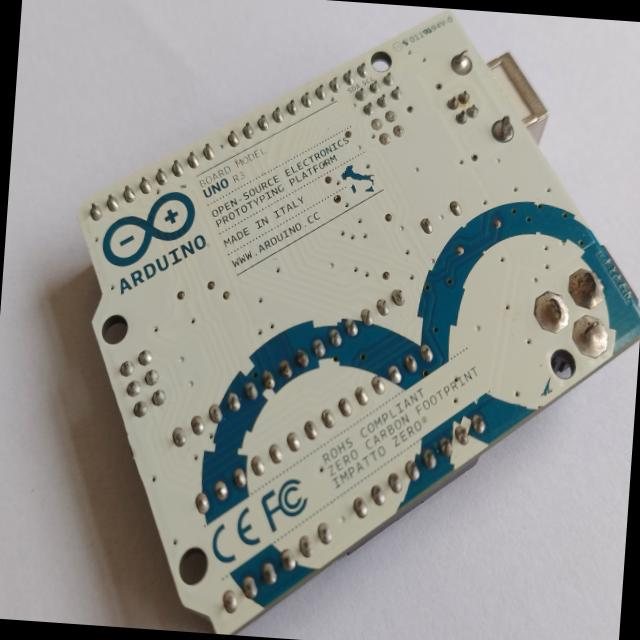arduino: (43, 0, 640, 640)
